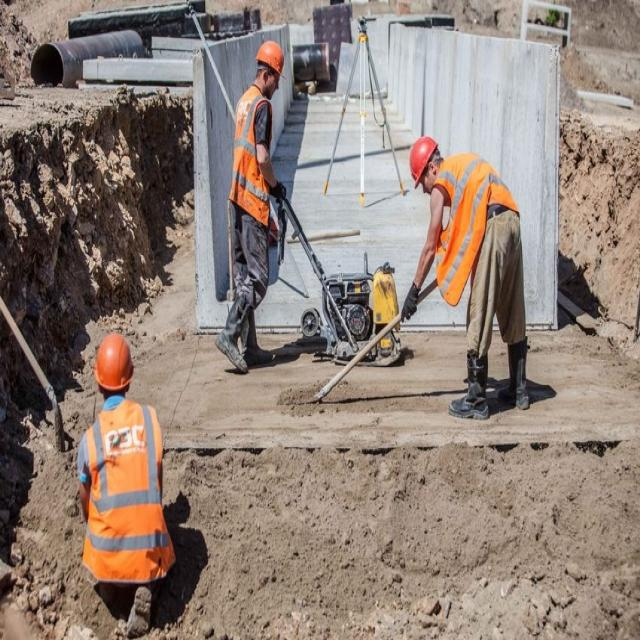Helmet: (96, 334, 137, 394), (410, 138, 439, 189), (257, 43, 287, 83)
Jacket: (90, 397, 156, 580), (442, 157, 498, 295), (236, 88, 273, 218)
